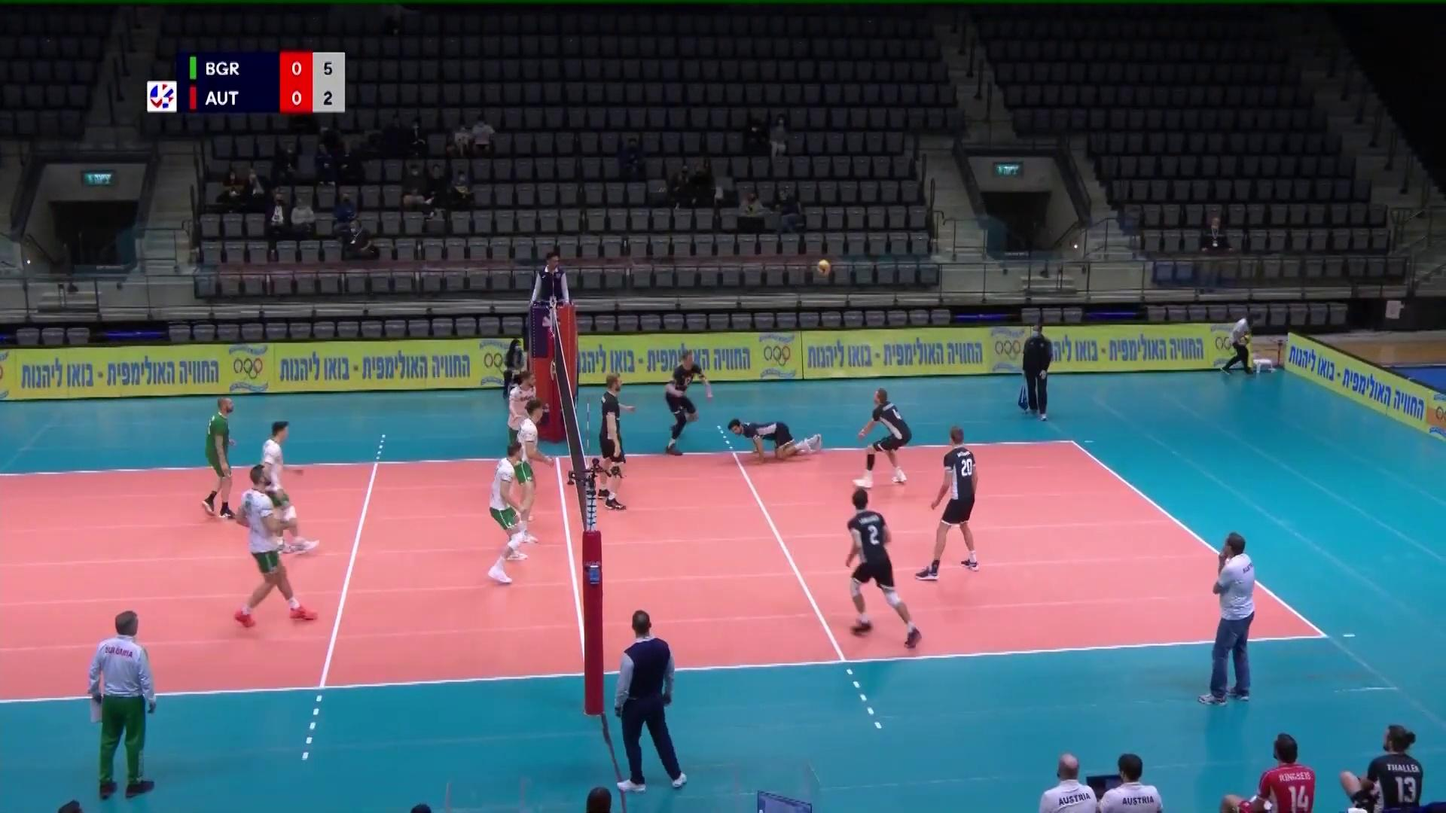ball: (817, 259, 831, 277)
